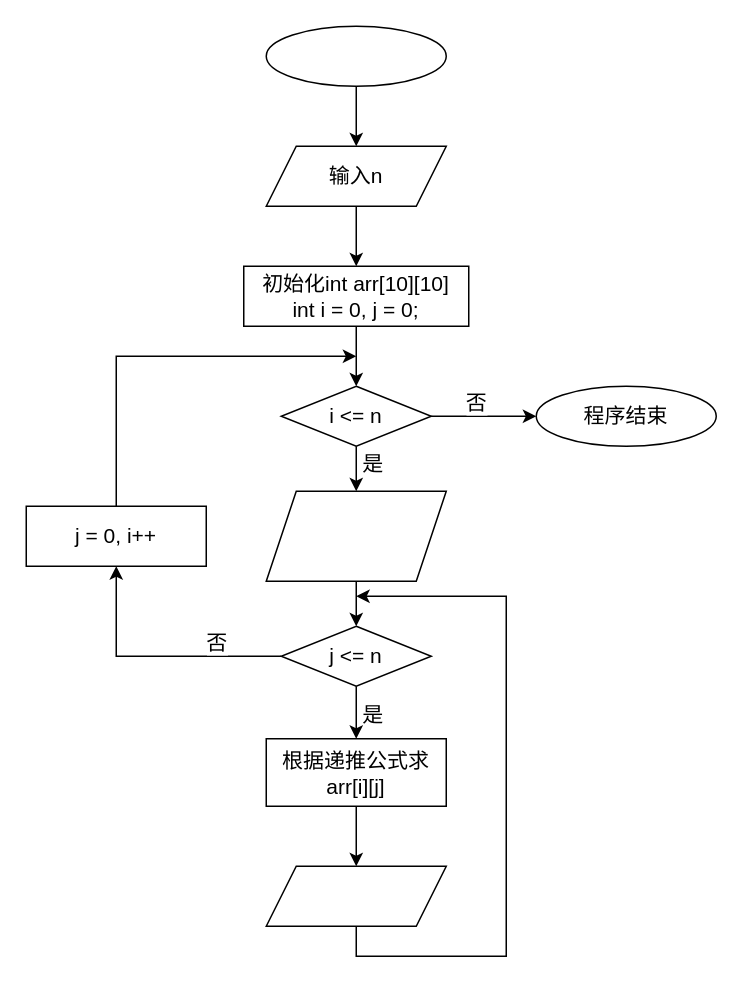
The diagram is 743 pixels wide and 995 high, and some of its shapes have lost their labels. Each missing label, with the centre of its shape:
程序开始: point (355, 55)
输出 arr[i][j]: point (355, 895)
输出 n + (n - i) * 2 个空格: point (355, 535)
